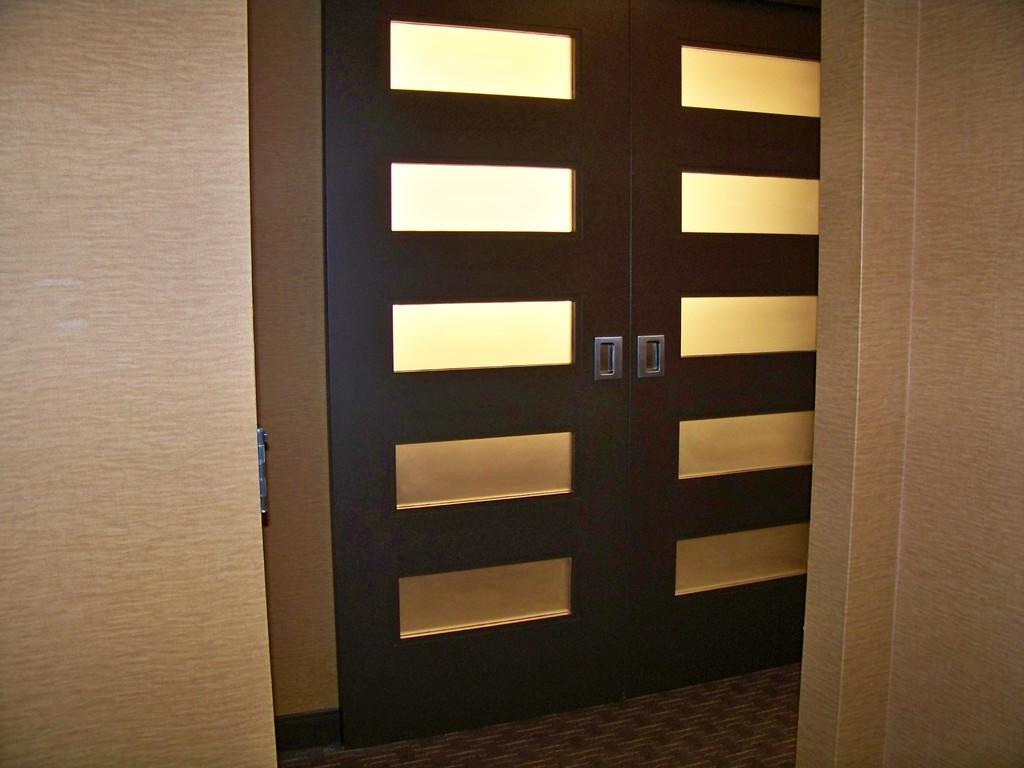door: (364, 25, 620, 698), (628, 41, 814, 680)
handle: (590, 330, 620, 380), (638, 334, 664, 376)
